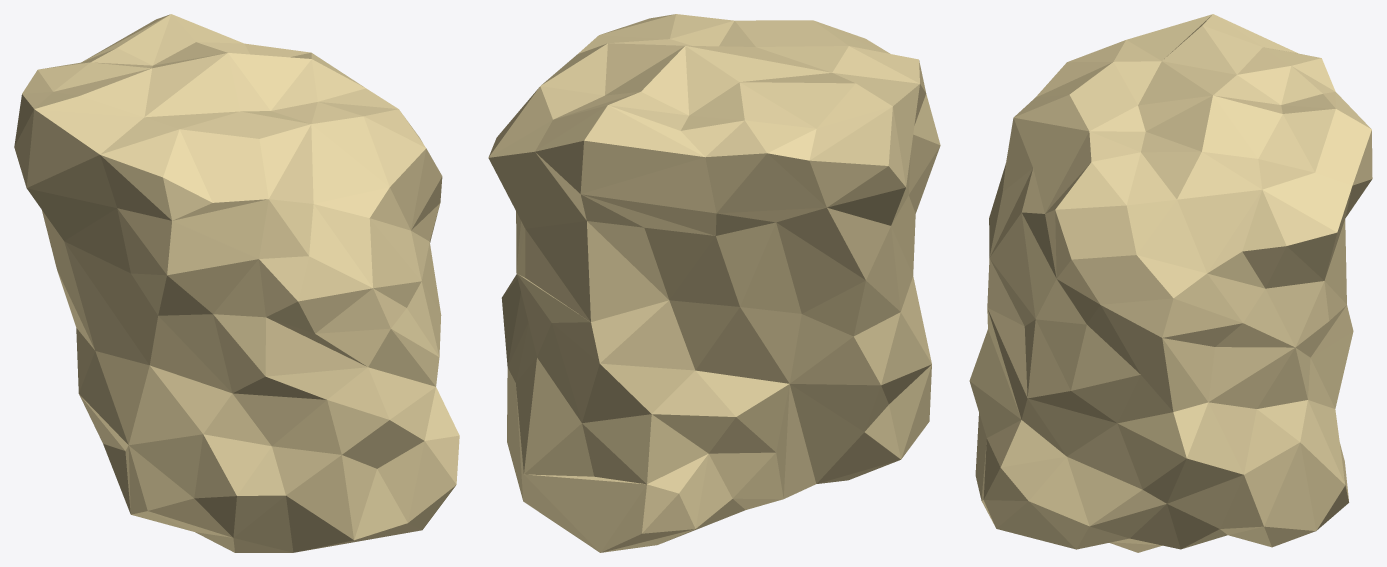
Rendered from Asteroid (63).fbx.
3 views of the same model, side by side, from view 1: azimuth 30°, elevation 25°; view 2: azimuth 150°, elevation 25°; view 3: azimuth 270°, elevation 25° (orthographic). The views are drawn at different scales.
Parts seen in each view (by area): view 1: Asteroid160; view 2: Asteroid160; view 3: Asteroid160.
Boxes of the visible parts, left/top/right/bottom form: Asteroid160: left=14, top=14, right=459, bottom=552; Asteroid160: left=488, top=14, right=940, bottom=552; Asteroid160: left=969, top=14, right=1372, bottom=552.
Size of the model in its own units: 340 by 383 by 320.
